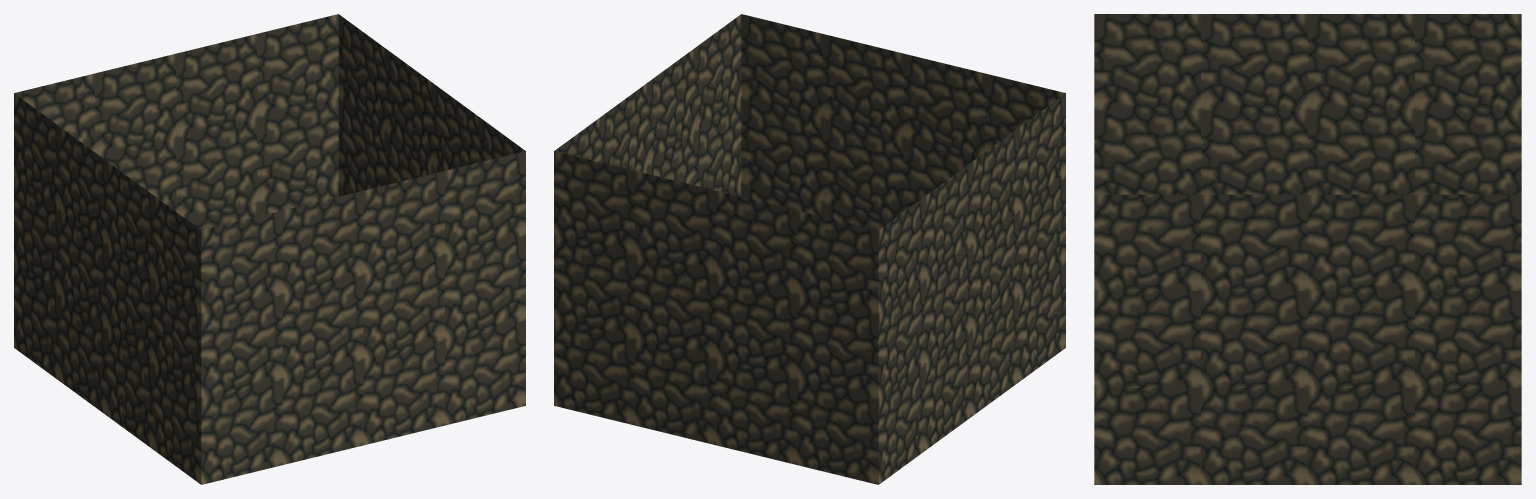
Rendered from pillar2.fbx.
3 views of the same model, side by side, from view 1: azimuth 30°, elevation 25°; view 2: azimuth 150°, elevation 25°; view 3: azimuth 270°, elevation 25° (orthographic). The views are drawn at different scales.
Parts seen in each view (by area): view 1: Pillar2; view 2: Pillar2; view 3: Pillar2.
Boxes of the visible parts, x1,y1,x2,y2 form: Pillar2: (14,14,525,484); Pillar2: (554,14,1065,484); Pillar2: (1094,14,1521,484).
Bounding box in the file's own units: 366 × 274 × 366.
1 material, 1 textured.
